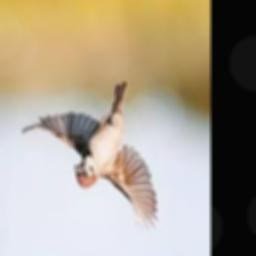Sparrow: (22, 82, 159, 234)
